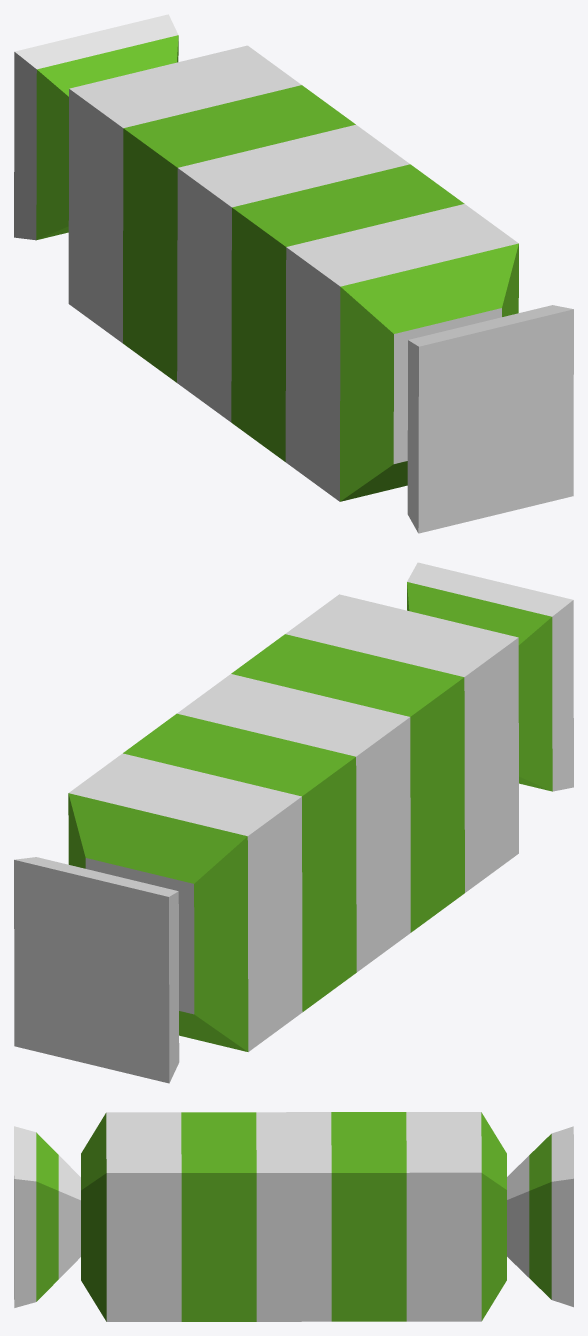
The model's file is Ingredient2.fbx.
3 views of the same model, one above another, from view 1: azimuth 30°, elevation 25°; view 2: azimuth 150°, elevation 25°; view 3: azimuth 270°, elevation 25° (orthographic). The views are drawn at different scales.
Parts seen in each view (by area): view 1: Candy; view 2: Candy; view 3: Candy.
Boxes of the visible parts, x1,y1,x2,y2 form: Candy: [14, 14, 573, 533]; Candy: [14, 562, 573, 1083]; Candy: [14, 1112, 573, 1321].
Size of the model in its own units: 34.29 by 39.3 by 133.
